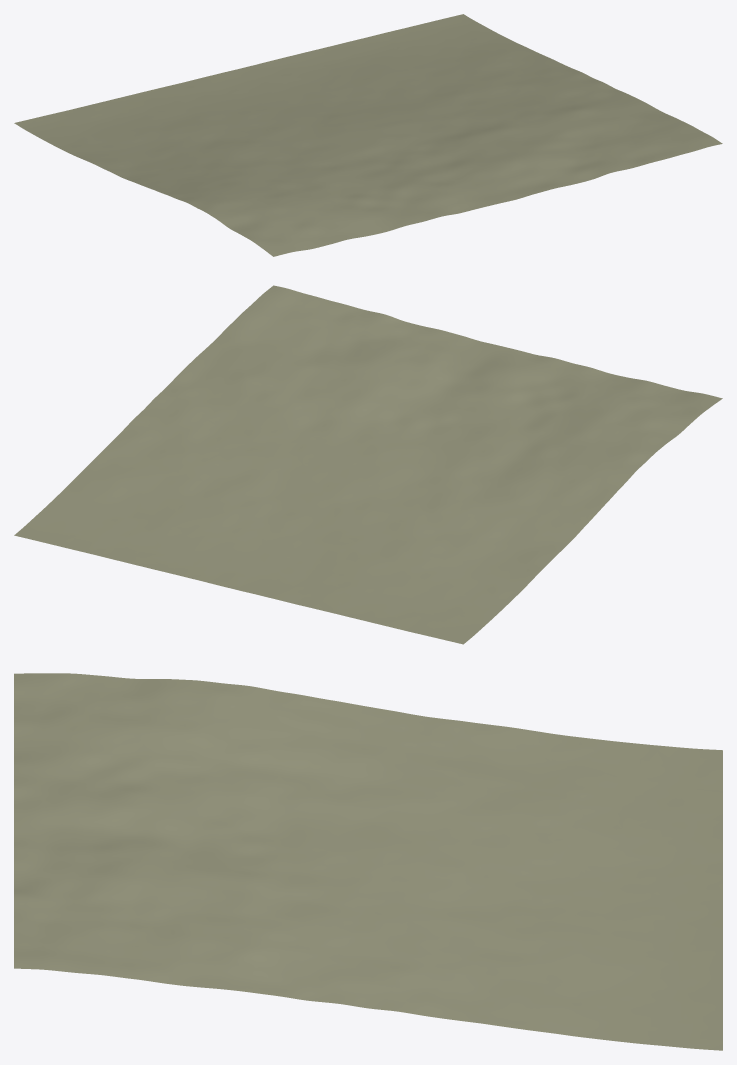
Rendered from SM_VB_CityTerrain_2_6.fbx.
3 renders of one model, top to bottom at view 1: azimuth 30°, elevation 25°; view 2: azimuth 150°, elevation 25°; view 3: azimuth 270°, elevation 25°, orthographic. The views are drawn at different scales.
Parts seen in each view (by area): view 1: SM_VB_CityTerrain_2_6; view 2: SM_VB_CityTerrain_2_6; view 3: SM_VB_CityTerrain_2_6.
Part boxes in pixels (x1,y1,x2,y2): SM_VB_CityTerrain_2_6: (14,14,722,256); SM_VB_CityTerrain_2_6: (14,285,722,644); SM_VB_CityTerrain_2_6: (14,673,722,1050).
Size of the model in its own units: 600 by 77.25 by 600.
